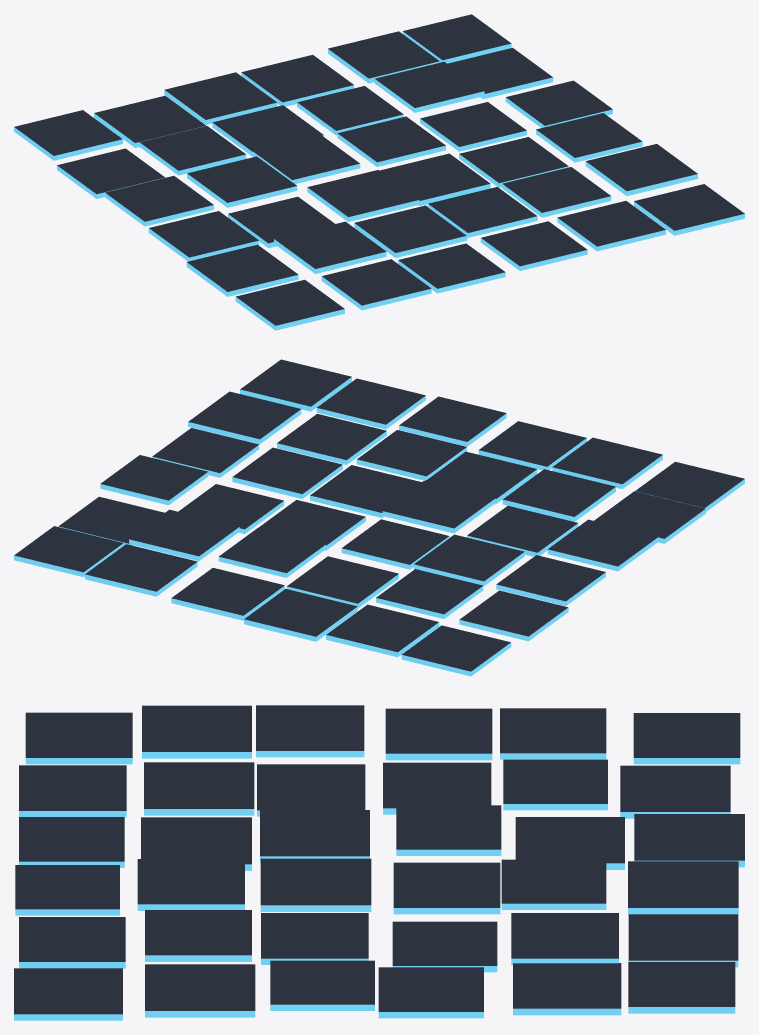
3 renders of one model, top to bottom at view 1: azimuth 30°, elevation 25°; view 2: azimuth 150°, elevation 25°; view 3: azimuth 270°, elevation 25°, orthographic. The views are drawn at different scales.
Parts seen in each view (by area): view 1: 顶1; view 2: 顶1; view 3: 顶1.
Part boxes in pixels (x1,y1,x2,y2): 顶1: (14,14,744,330); 顶1: (14,359,744,676); 顶1: (14,705,744,1020).
Bounding box in the file's own units: 408 × 9.64 × 407.
